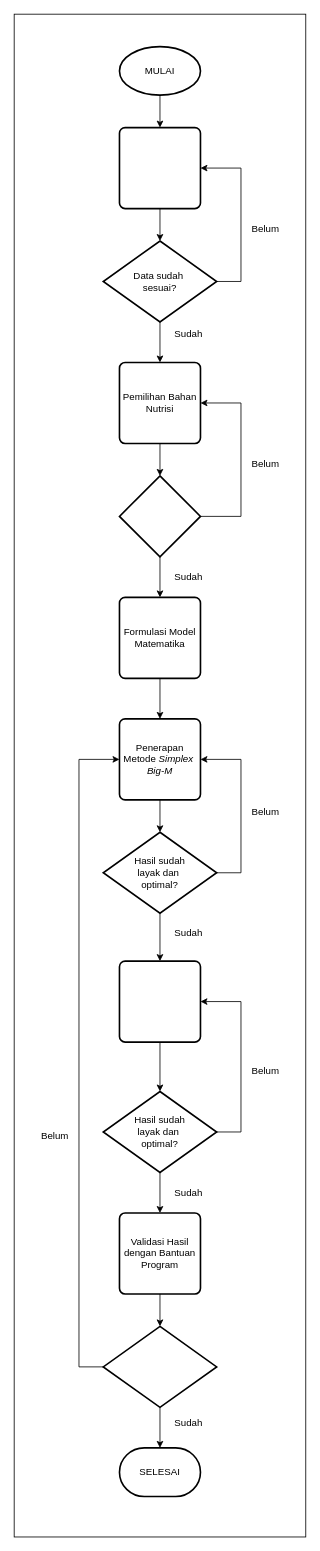
Image size: 320x1551. Some labels were removed from this diagram. Each missing label, with the centre of its shape:
Hasil sudah sama?: the point at 159,1366
Mencari Sumber Data: the point at 159,167
Minimal 5 bahan?: the point at 159,516
Penerapan pendekatan Gomory dan metode Dual SImplex: the point at 159,1001
